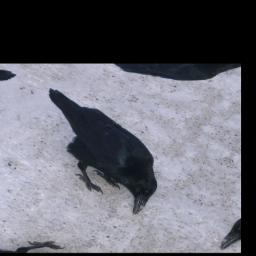Crow: (0, 87, 189, 216)
